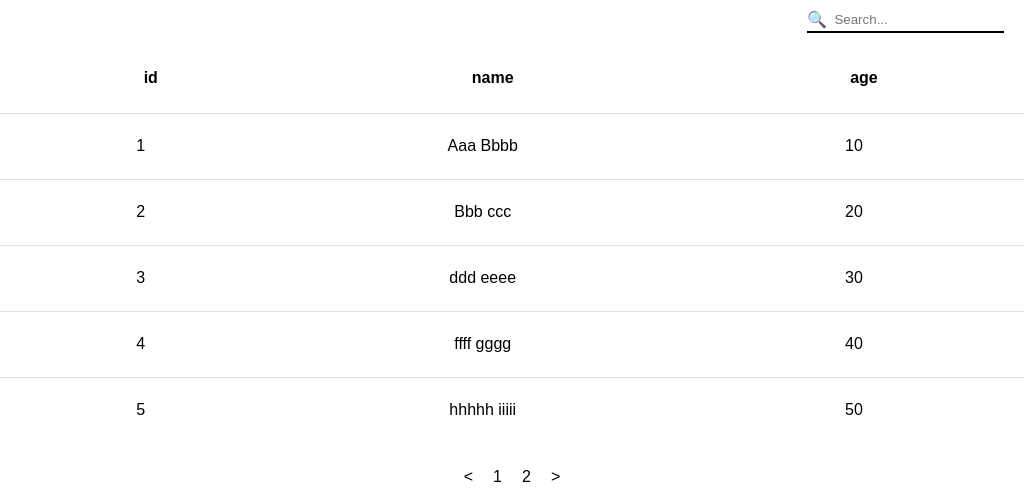
it: CustomTable › search by input
Type "oo" into the field at (916, 22), box [827,10,1004,33]
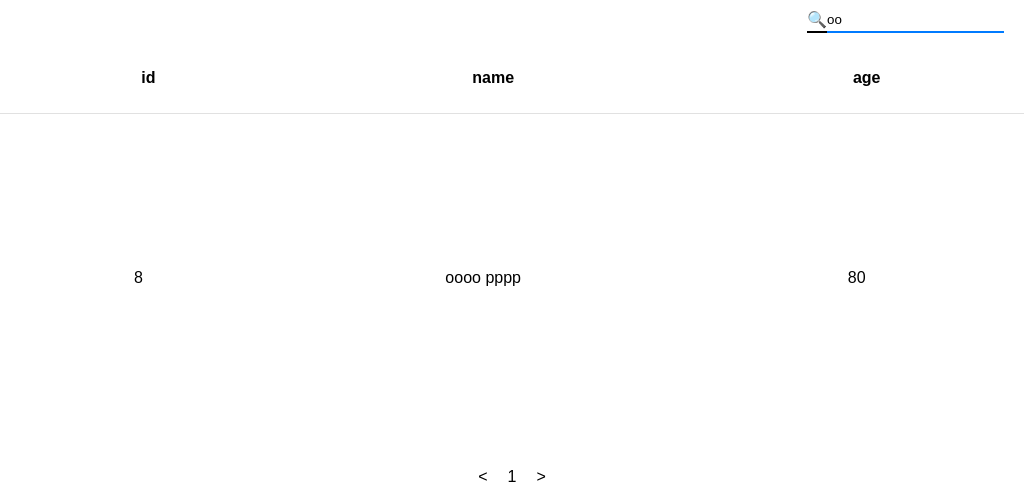
Now the text "oooo pppp" is shown, box [277,113,690,443]
